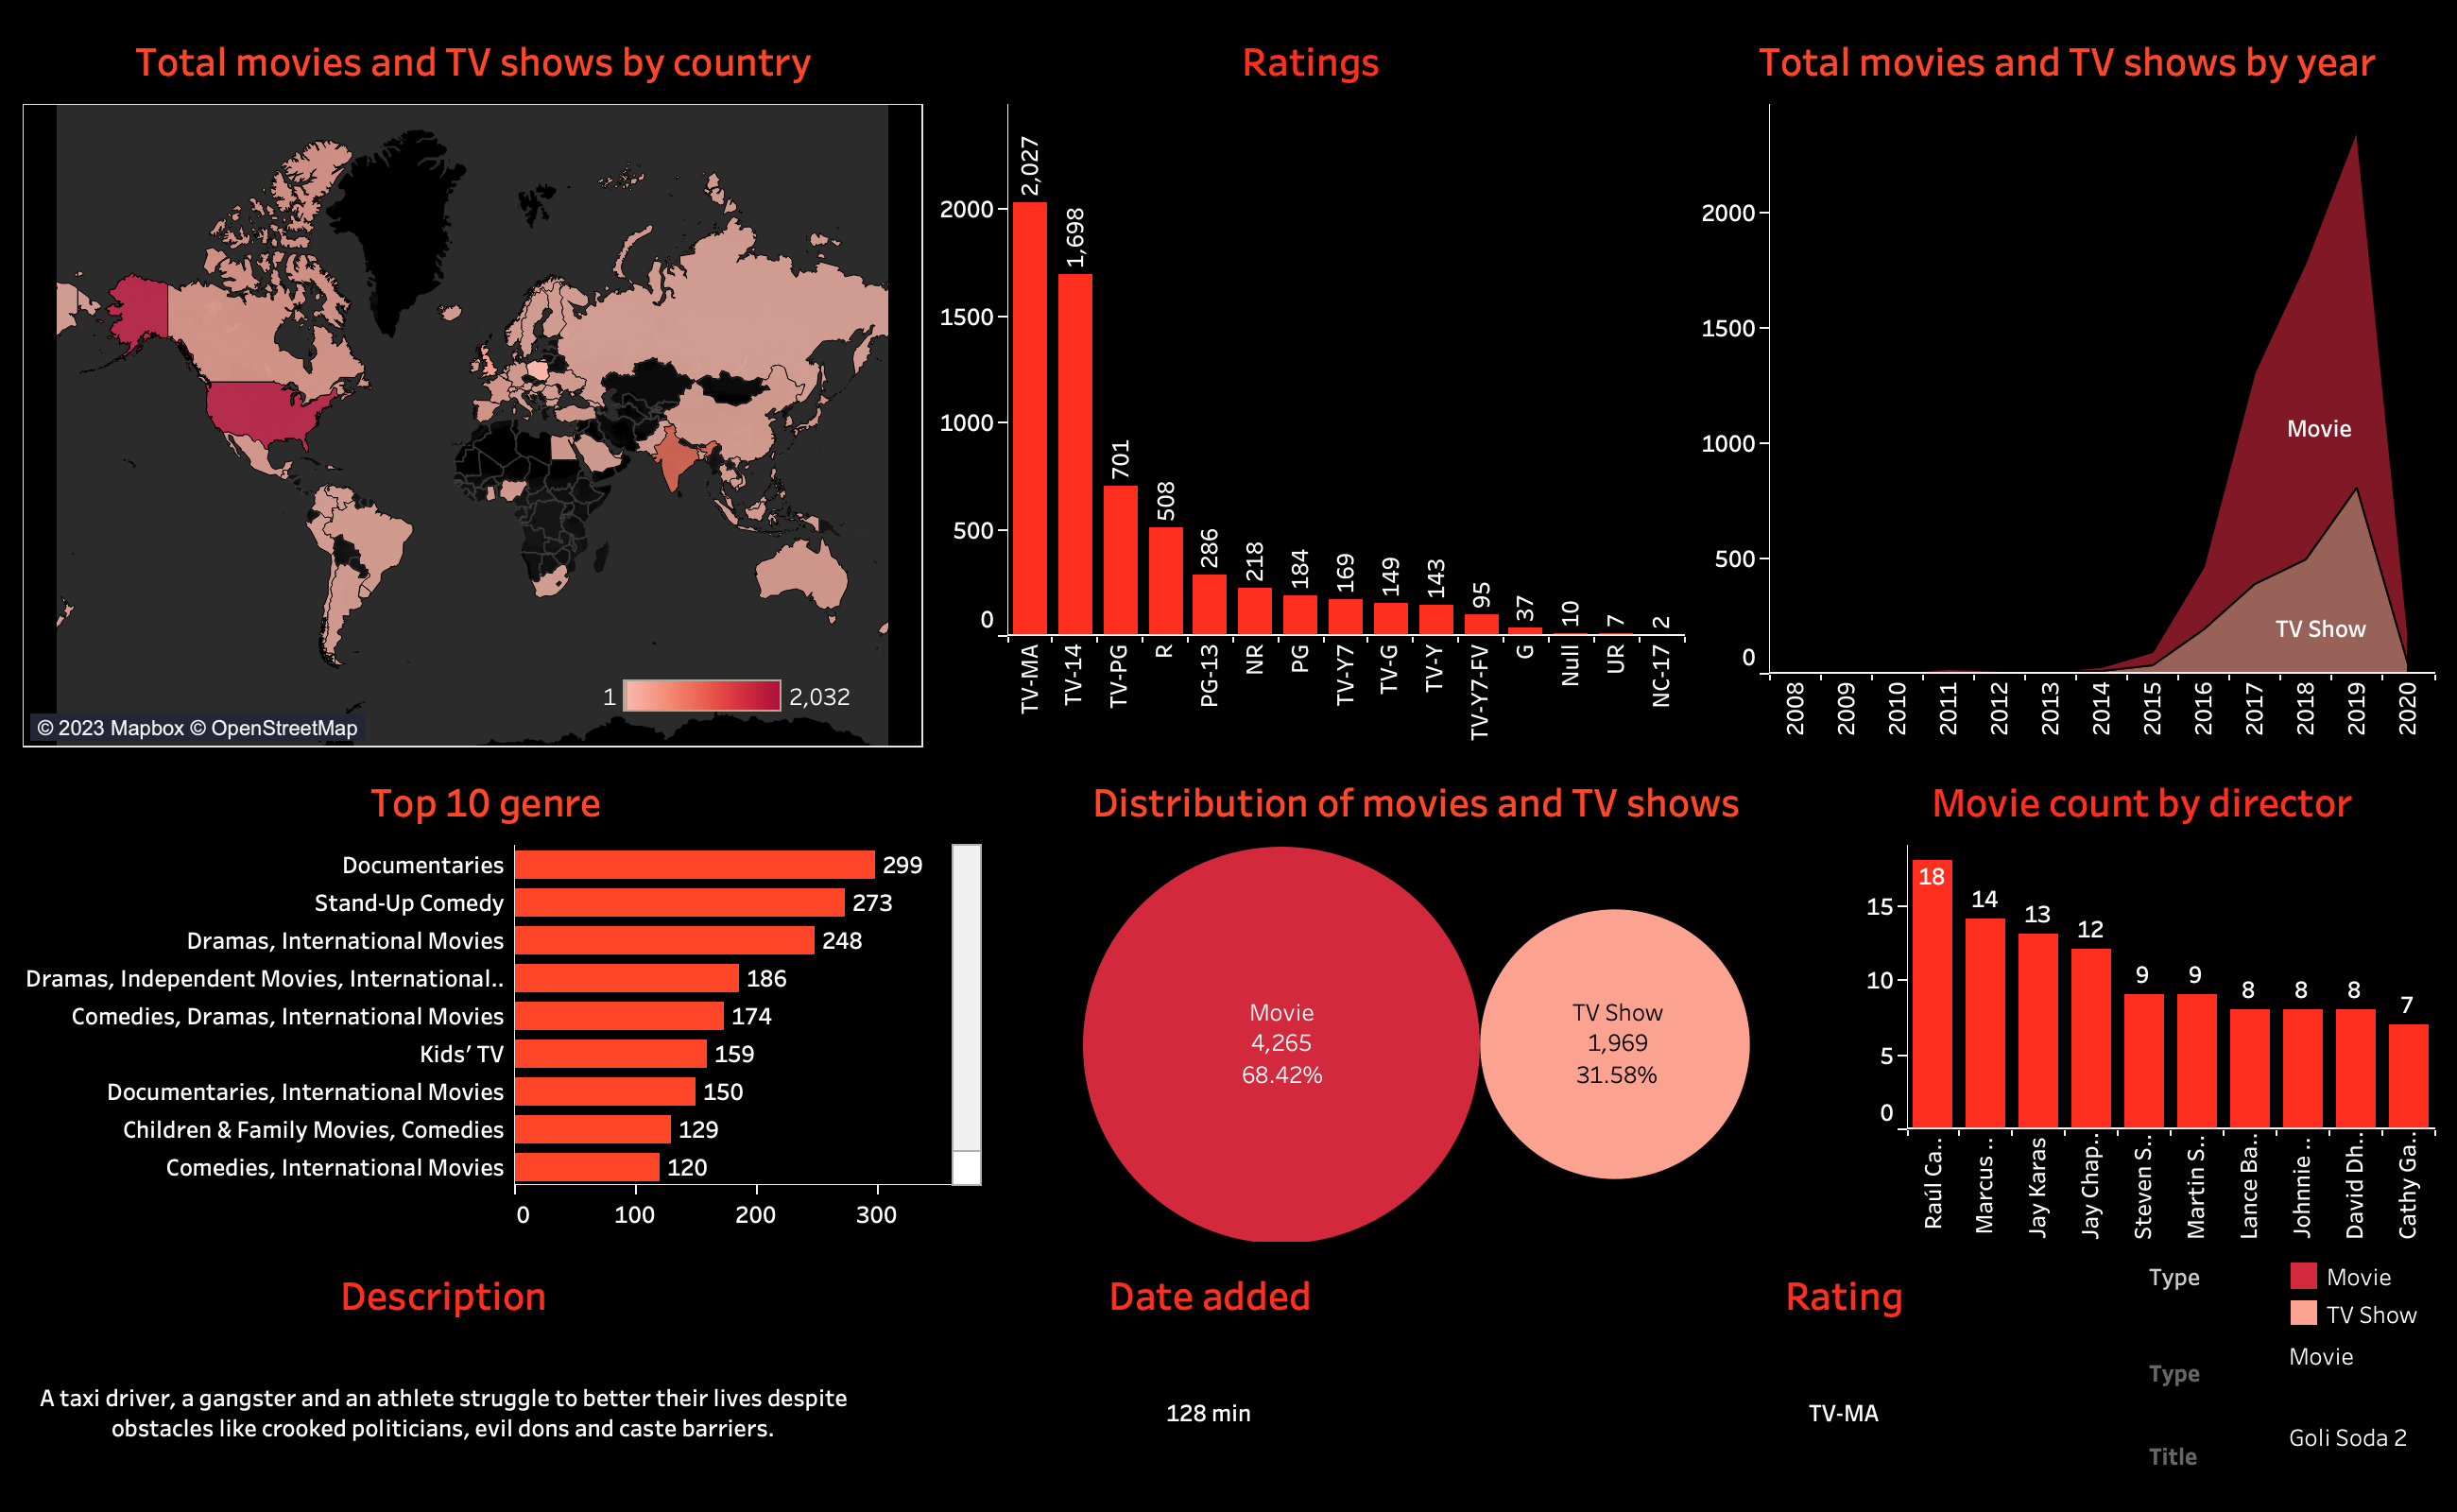

Layout of this report page (visuals, bound fields, positions):
{"tool":"tableau","page":{"name":"Dashboard for netflix data","canvas":[1300,800],"ordinal":0},"visuals":[{"type":"worksheet","title":"total movies and shows by country","mark":"Automatic","box":[8,8,485.5,392]},{"type":"worksheet","title":"Ratings","mark":"Automatic","rows":["show_id"],"cols":["rating"],"box":[493.5,8,402.1,392]},{"type":"worksheet","title":"total movies and shows by year","mark":"Area","rows":["show_id"],"cols":["date_added"],"box":[895.6,8,396.4,392]},{"type":"legend","title":"total movies and shows by country","param":"[federated.0w1i89e1ta3aww1eb1x3m1eg9ezg].[ctd:show_id:qk]","box":[315,356,140,39]},{"type":"worksheet","title":"top 10 genre","mark":"Automatic","rows":["listed_in"],"cols":["show_id"],"box":[8,400,515.5,261]},{"type":"worksheet","title":"Distribution of movies and TV shows","mark":"Circle","box":[523.5,400,451.2,261]},{"type":"worksheet","title":"Movie count by director","mark":"Bar","rows":["show_id"],"cols":["director"],"box":[974.7,400,317.3,261]},{"type":"worksheet","title":"Description","mark":"Automatic","box":[8,661,454,131]},{"type":"worksheet","title":"date added","mark":"Automatic","box":[462,661,357,131]},{"type":"worksheet","title":"rating","mark":"Automatic","box":[819,661,314.4,131]},{"type":"legend","title":"Distribution of movies and TV shows","param":"[federated.0w1i89e1ta3aww1eb1x3m1eg9ezg].[none:type:nk]","box":[1133.4,661,158.6,43.7]},{"type":"filter","title":"Description","param":"[federated.0w1i89e1ta3aww1eb1x3m1eg9ezg].[none:type:nk]","box":[1133.4,704.7,158.6,43.7]},{"type":"filter","title":"Description","param":"[federated.0w1i89e1ta3aww1eb1x3m1eg9ezg].[none:title:nk]","box":[1133.4,748.3,158.6,43.7]}]}

Visuals, with their boxes in screenshot pixels (x1, y1, x2, y2), scaled from the page's 1300x800 canvas onto the 2457x1512 screenshot:
"total movies and shows by country" worksheet: [x1=15, y1=15, x2=933, y2=756]
"Ratings" worksheet: [x1=933, y1=15, x2=1692, y2=756]
"total movies and shows by year" worksheet (Area marks): [x1=1692, y1=15, x2=2442, y2=756]
"total movies and shows by country" legend: [x1=595, y1=673, x2=860, y2=747]
"top 10 genre" worksheet: [x1=15, y1=756, x2=989, y2=1249]
"Distribution of movies and TV shows" worksheet (Circle marks): [x1=989, y1=756, x2=1842, y2=1249]
"Movie count by director" worksheet (Bar marks): [x1=1842, y1=756, x2=2442, y2=1249]
"Description" worksheet: [x1=15, y1=1249, x2=873, y2=1497]
"date added" worksheet: [x1=873, y1=1249, x2=1548, y2=1497]
"rating" worksheet: [x1=1548, y1=1249, x2=2142, y2=1497]
"Distribution of movies and TV shows" legend: [x1=2142, y1=1249, x2=2442, y2=1332]
"Description" filter: [x1=2142, y1=1332, x2=2442, y2=1415]
"Description" filter: [x1=2142, y1=1415, x2=2442, y2=1497]
